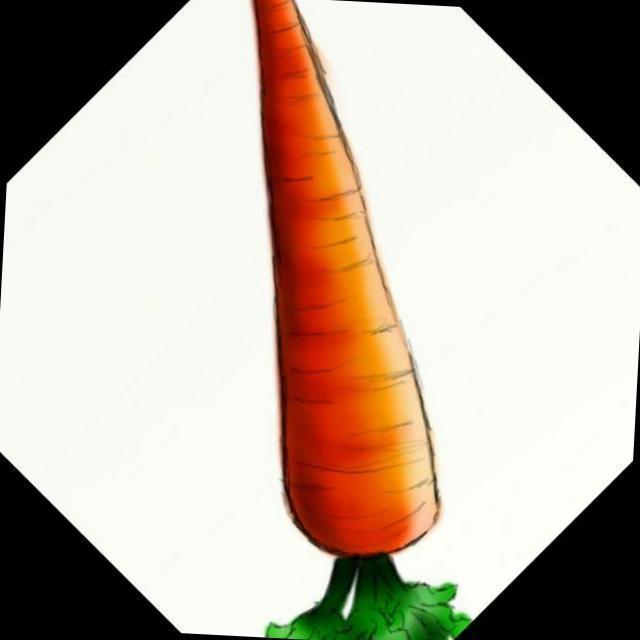Carrot: (254, 0, 469, 640)
